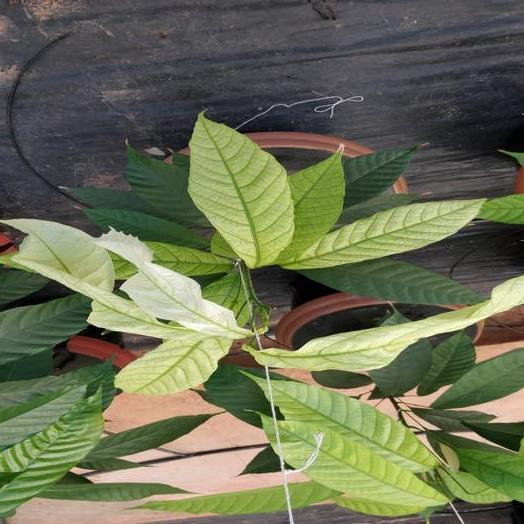Healthy Leaf: (2, 390, 103, 515), (300, 258, 481, 304), (124, 146, 207, 225), (0, 294, 89, 362), (0, 383, 92, 448), (431, 349, 523, 408), (84, 208, 207, 247), (344, 147, 418, 206), (456, 448, 523, 501), (418, 331, 474, 394), (368, 340, 432, 395), (69, 188, 161, 216), (0, 269, 48, 305)
Iron: (248, 276, 523, 370), (279, 407, 446, 507), (188, 113, 293, 267), (97, 231, 248, 337), (273, 382, 435, 472), (278, 199, 484, 268), (3, 220, 114, 297), (116, 332, 231, 394), (279, 153, 344, 261), (87, 292, 181, 338), (131, 486, 285, 514), (145, 242, 233, 275), (437, 467, 510, 502), (290, 481, 334, 507), (211, 232, 236, 256)
